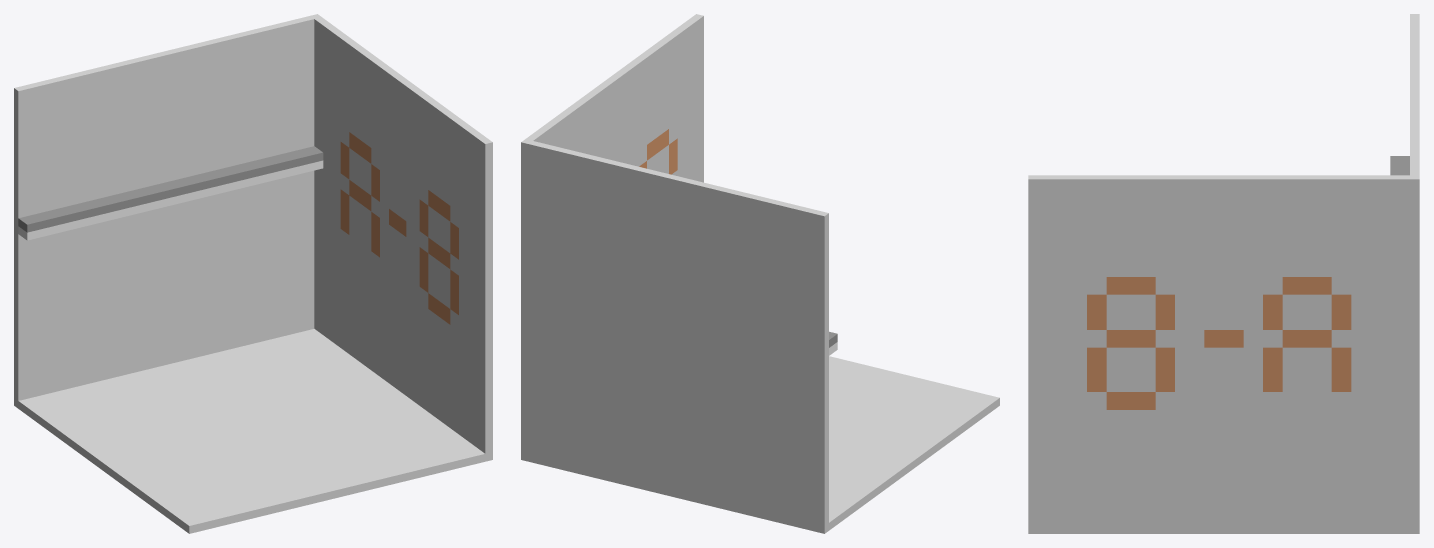
Rendered from Wall_Corner(Ver_1_Number 8).obj.
3 renders of one model, left to right at view 1: azimuth 30°, elevation 25°; view 2: azimuth 150°, elevation 25°; view 3: azimuth 270°, elevation 25°, orthographic. The views are drawn at different scales.
Bounding box in the file's own units: 4 × 4 × 4.
1 material, 1 textured.
